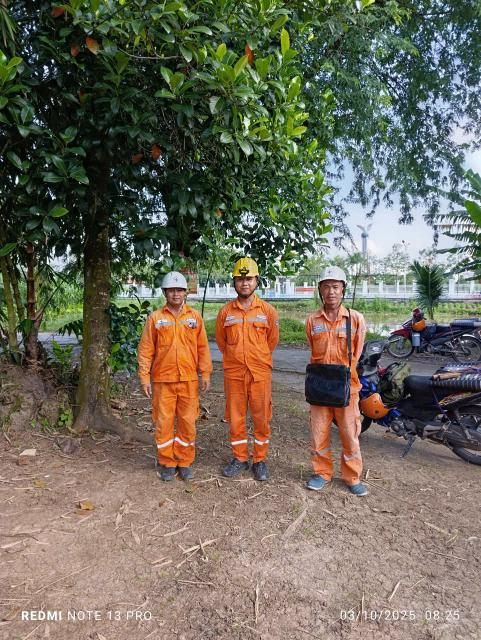helmet: (309, 261, 354, 298), (231, 251, 270, 285), (154, 271, 203, 297)
shoes: (342, 466, 377, 504), (300, 464, 337, 494), (222, 452, 252, 481), (251, 455, 275, 487), (176, 461, 202, 488), (162, 462, 180, 486)
